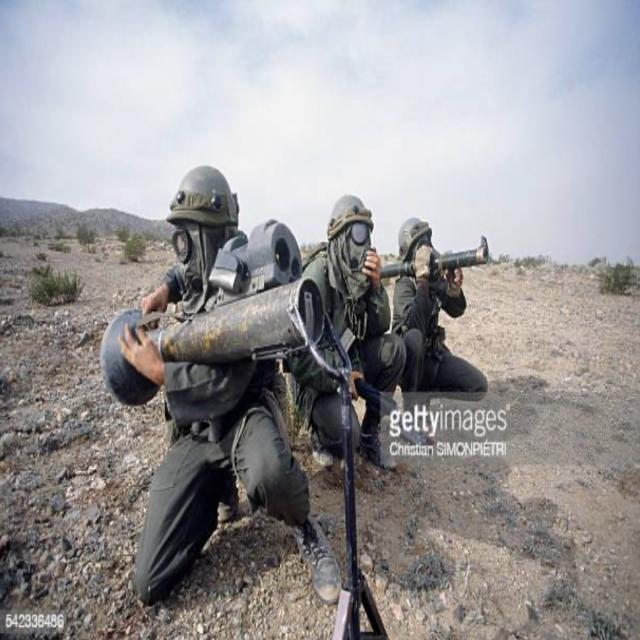bazooka: (98, 268, 336, 412), (383, 238, 496, 280)
